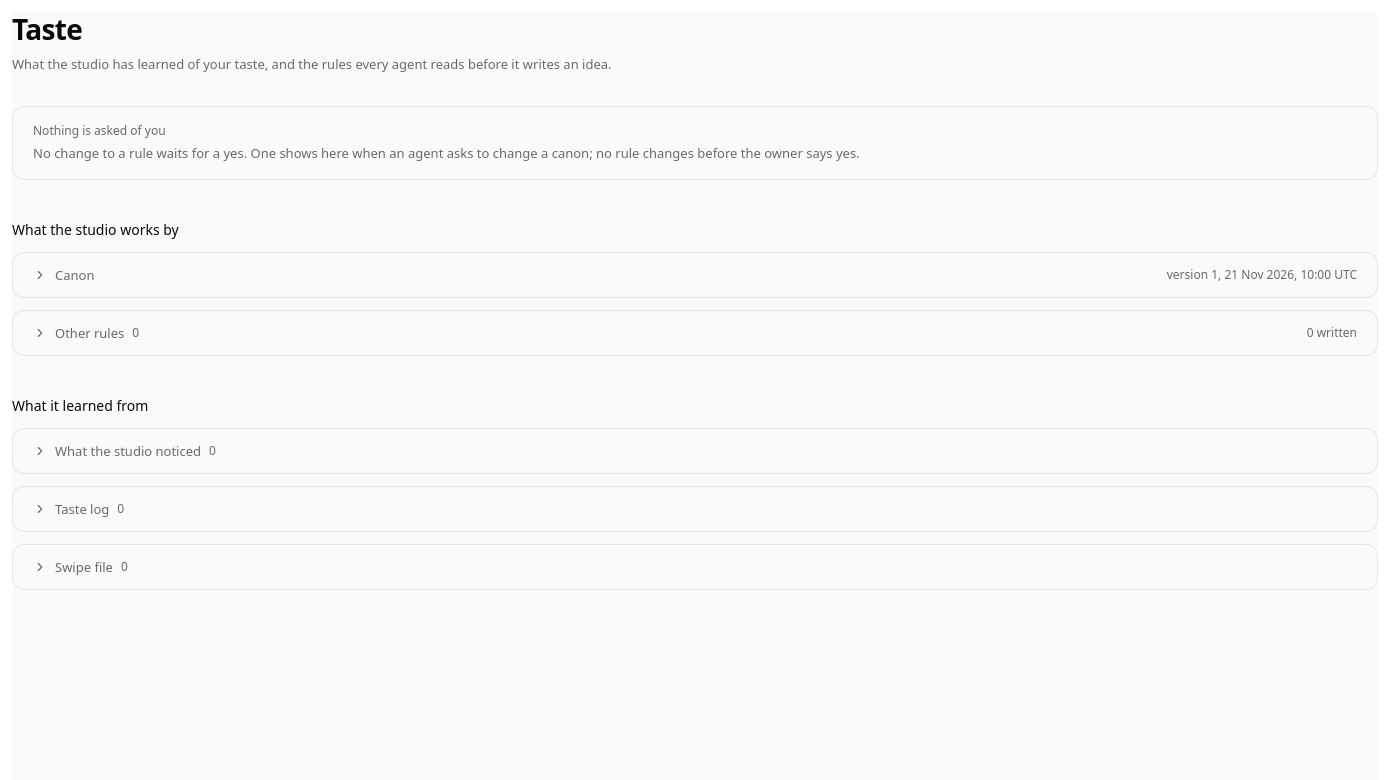
Scenario: Taste page › keeps a canon that is being edited when its row is closed and opened again
Click the button "Canon version 1, 21 Nov 2026, 10:00 UTC" at [75, 275], box top-left (13, 253), bottom-right (1377, 297)
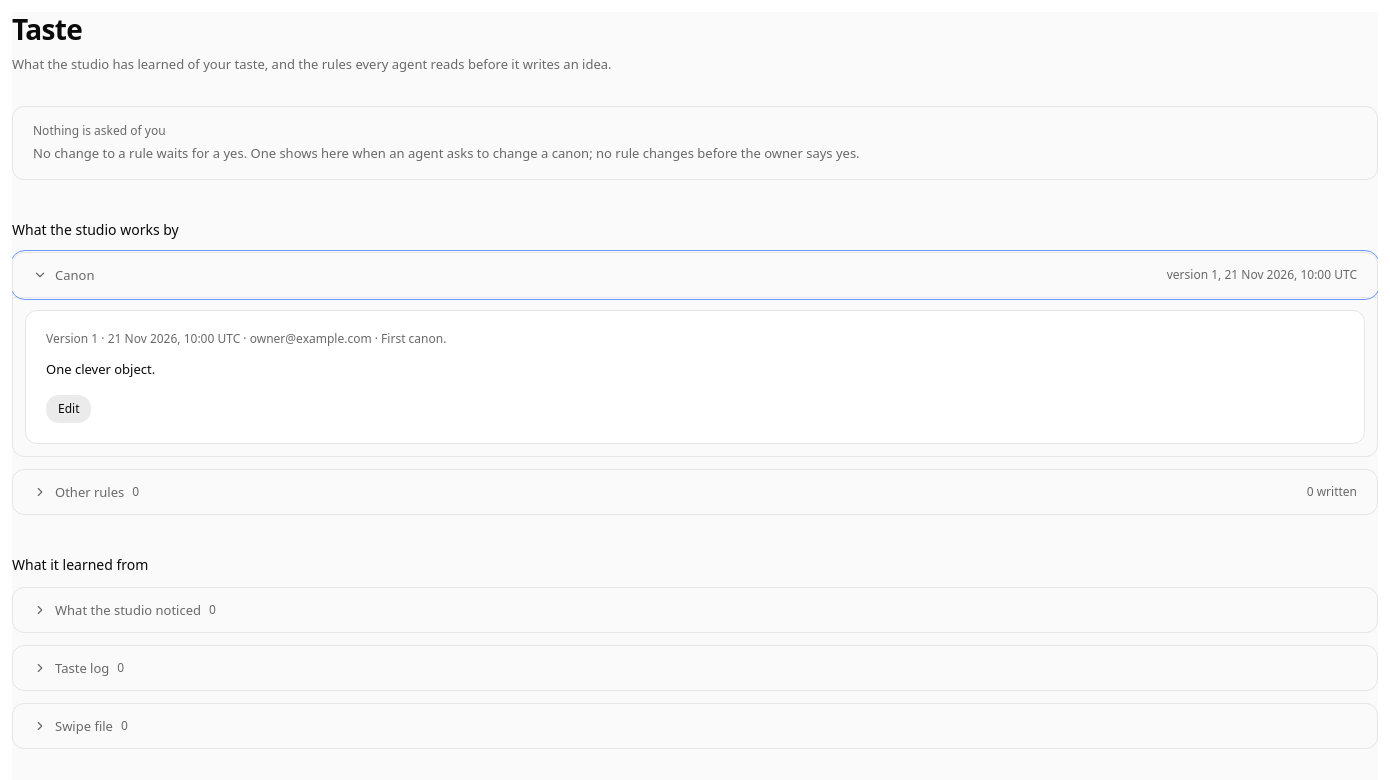
Click the button "Edit" at [69, 409], box top-left (46, 395), bottom-right (92, 423)
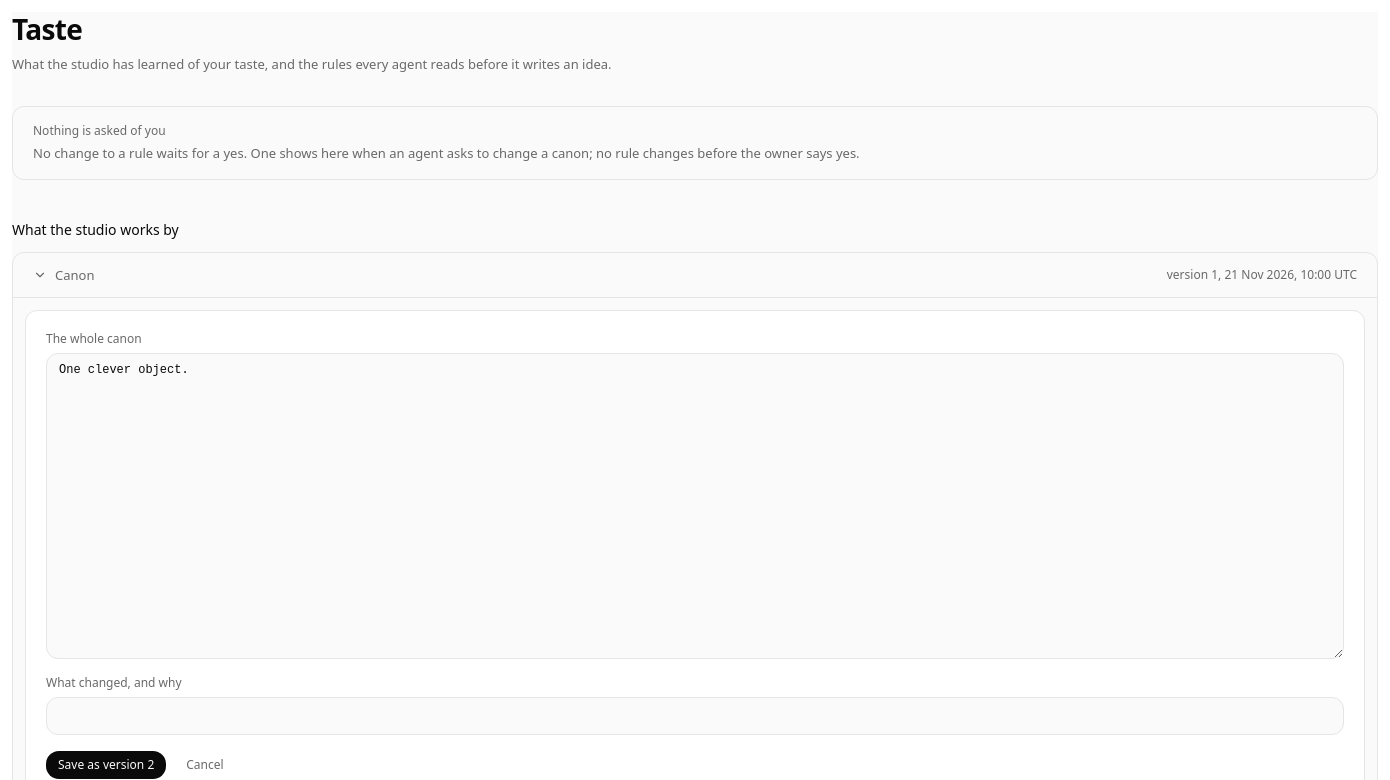
Type " No clutter." into the text box labelled "The whole canon" at [695, 506], box top-left (46, 353), bottom-right (1344, 659)
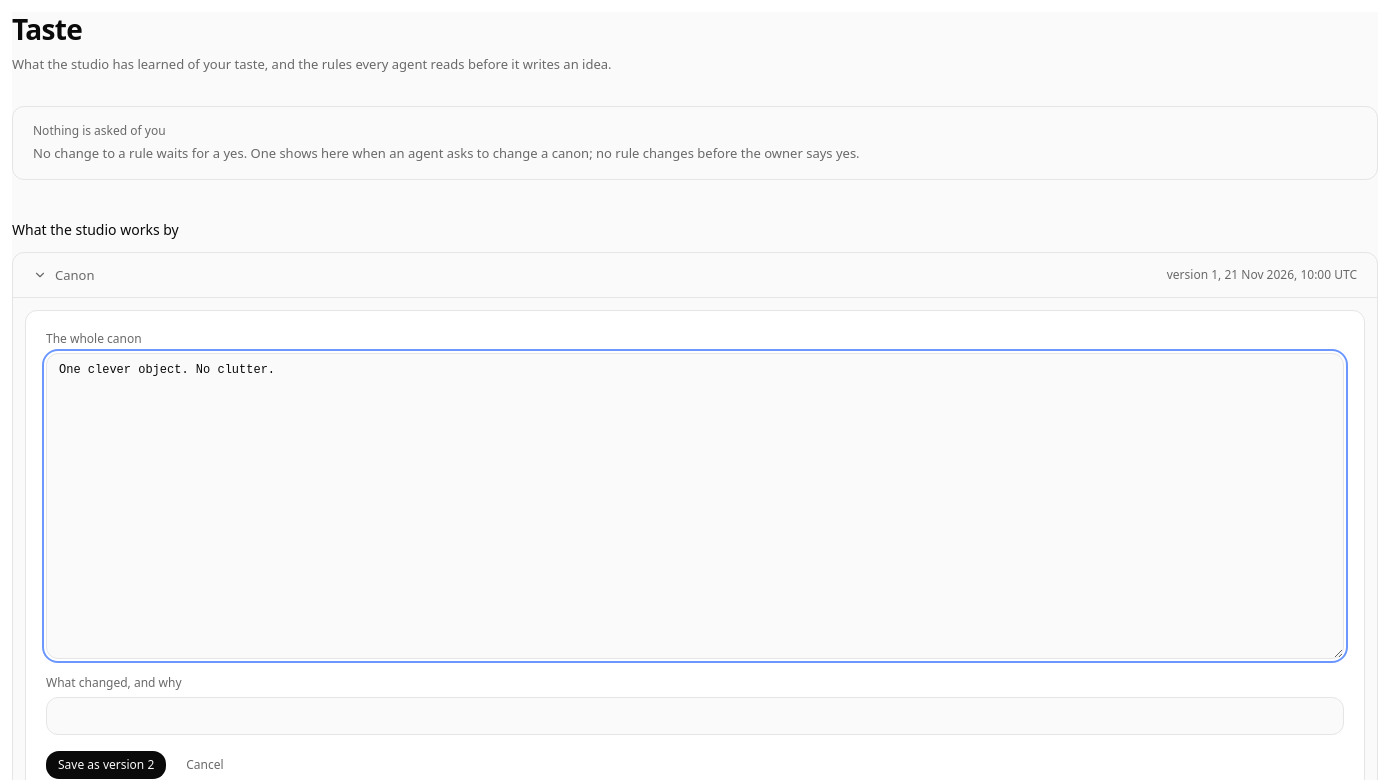
Click the button "Canon version 1, 21 Nov 2026, 10:00 UTC" at [75, 275], box top-left (13, 253), bottom-right (1377, 297)
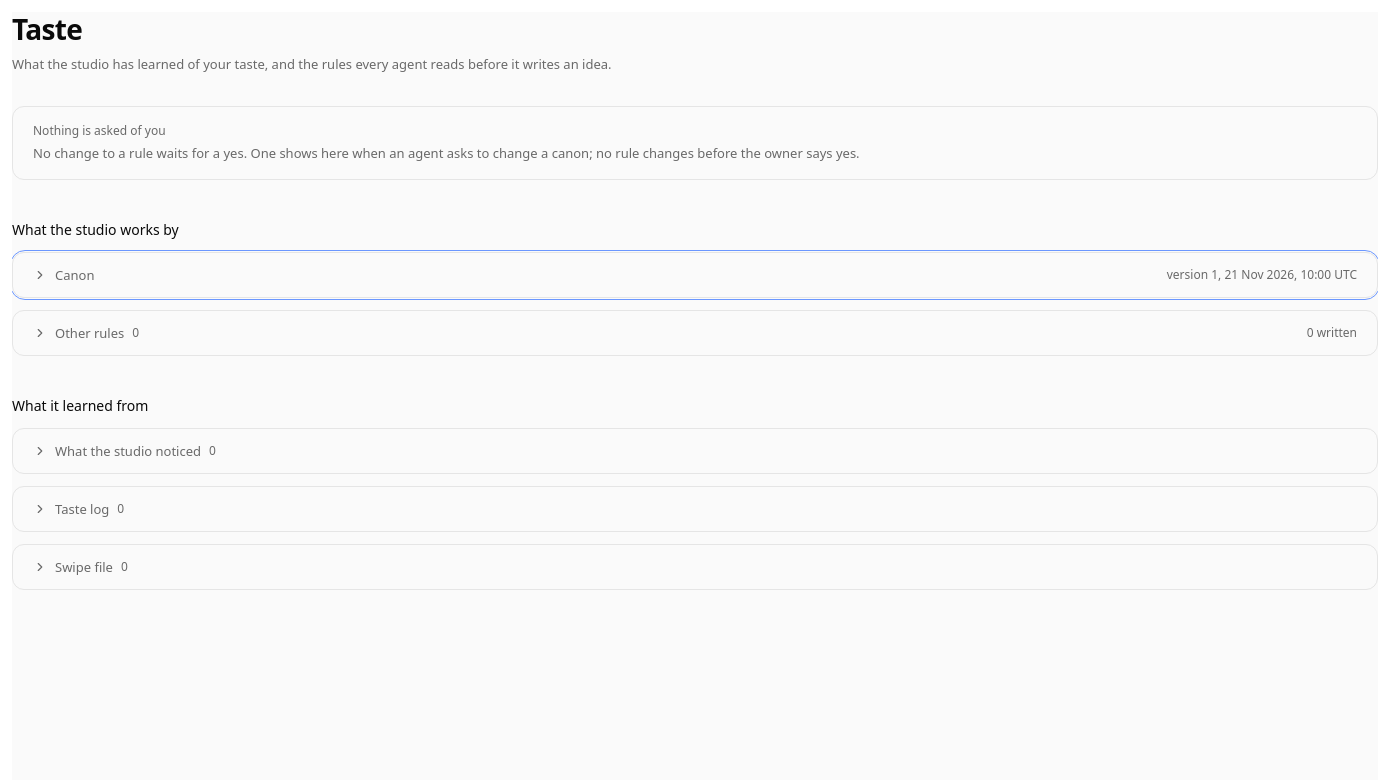
Expected: the label labelled "The whole canon" is gone
Click the button "Canon version 1, 21 Nov 2026, 10:00 UTC" at [75, 275], box top-left (13, 253), bottom-right (1377, 297)
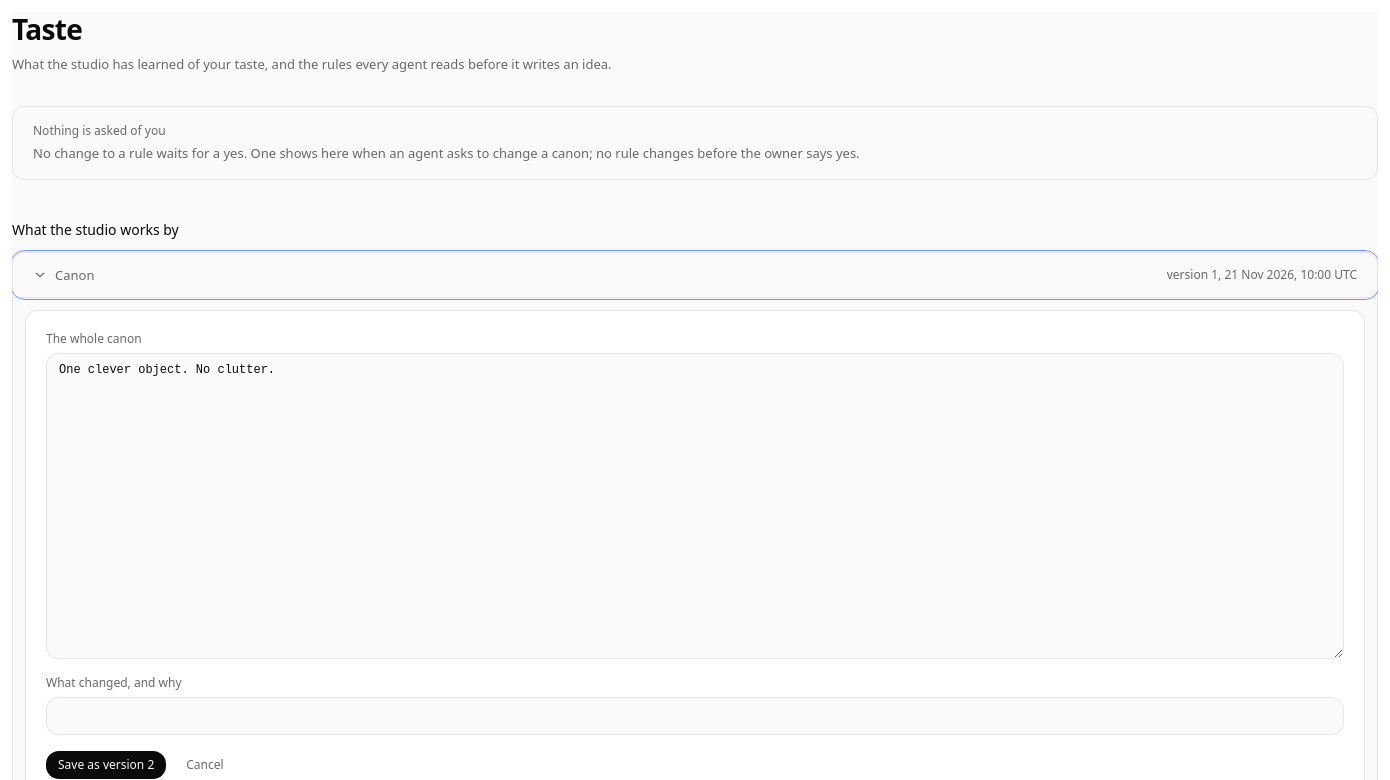
Expected: the text box labelled "The whole canon" holds "One clever object. No clutter.", top-left (46, 353), bottom-right (1344, 659)
